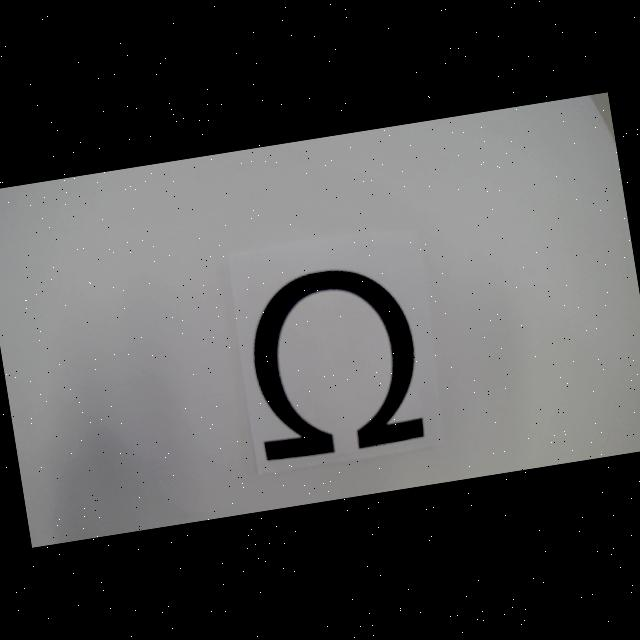OMEGA: (240, 259, 428, 464)
